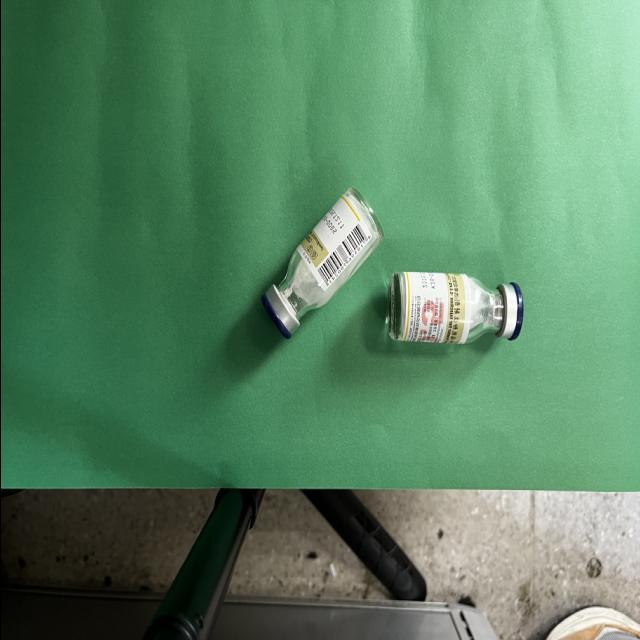Vials: (259, 187, 382, 340), (385, 271, 522, 345)
